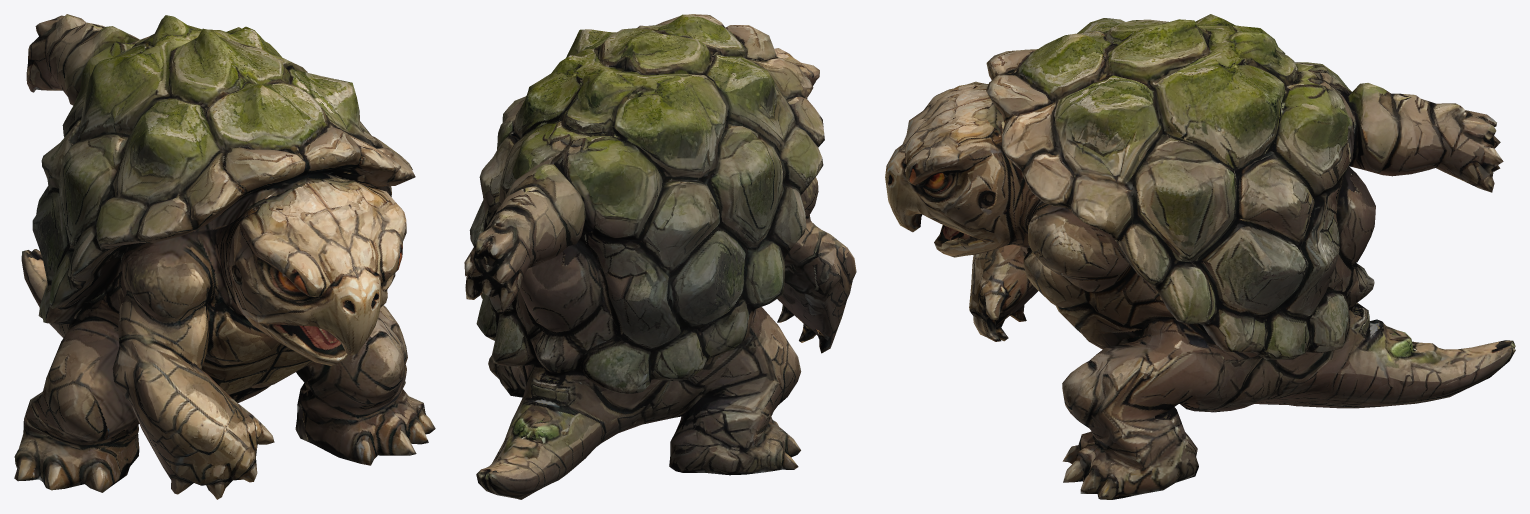
The model's file is BabyTurtle.fbx.
The picture shows the model from 3 angles, left to right: view 1: azimuth 30°, elevation 25°; view 2: azimuth 150°, elevation 25°; view 3: azimuth 270°, elevation 25°; orthographic projection. The views are drawn at different scales.
Parts seen in each view (by area): view 1: texture_mapping; view 2: texture_mapping; view 3: texture_mapping.
Part boxes in pixels (<box>): texture_mapping: <box>14,14,435,499</box>; texture_mapping: <box>464,14,856,499</box>; texture_mapping: <box>885,14,1515,499</box>.
Bounding box in the file's own units: 0.6476 × 1 × 0.6968.
1 material, 1 textured.
